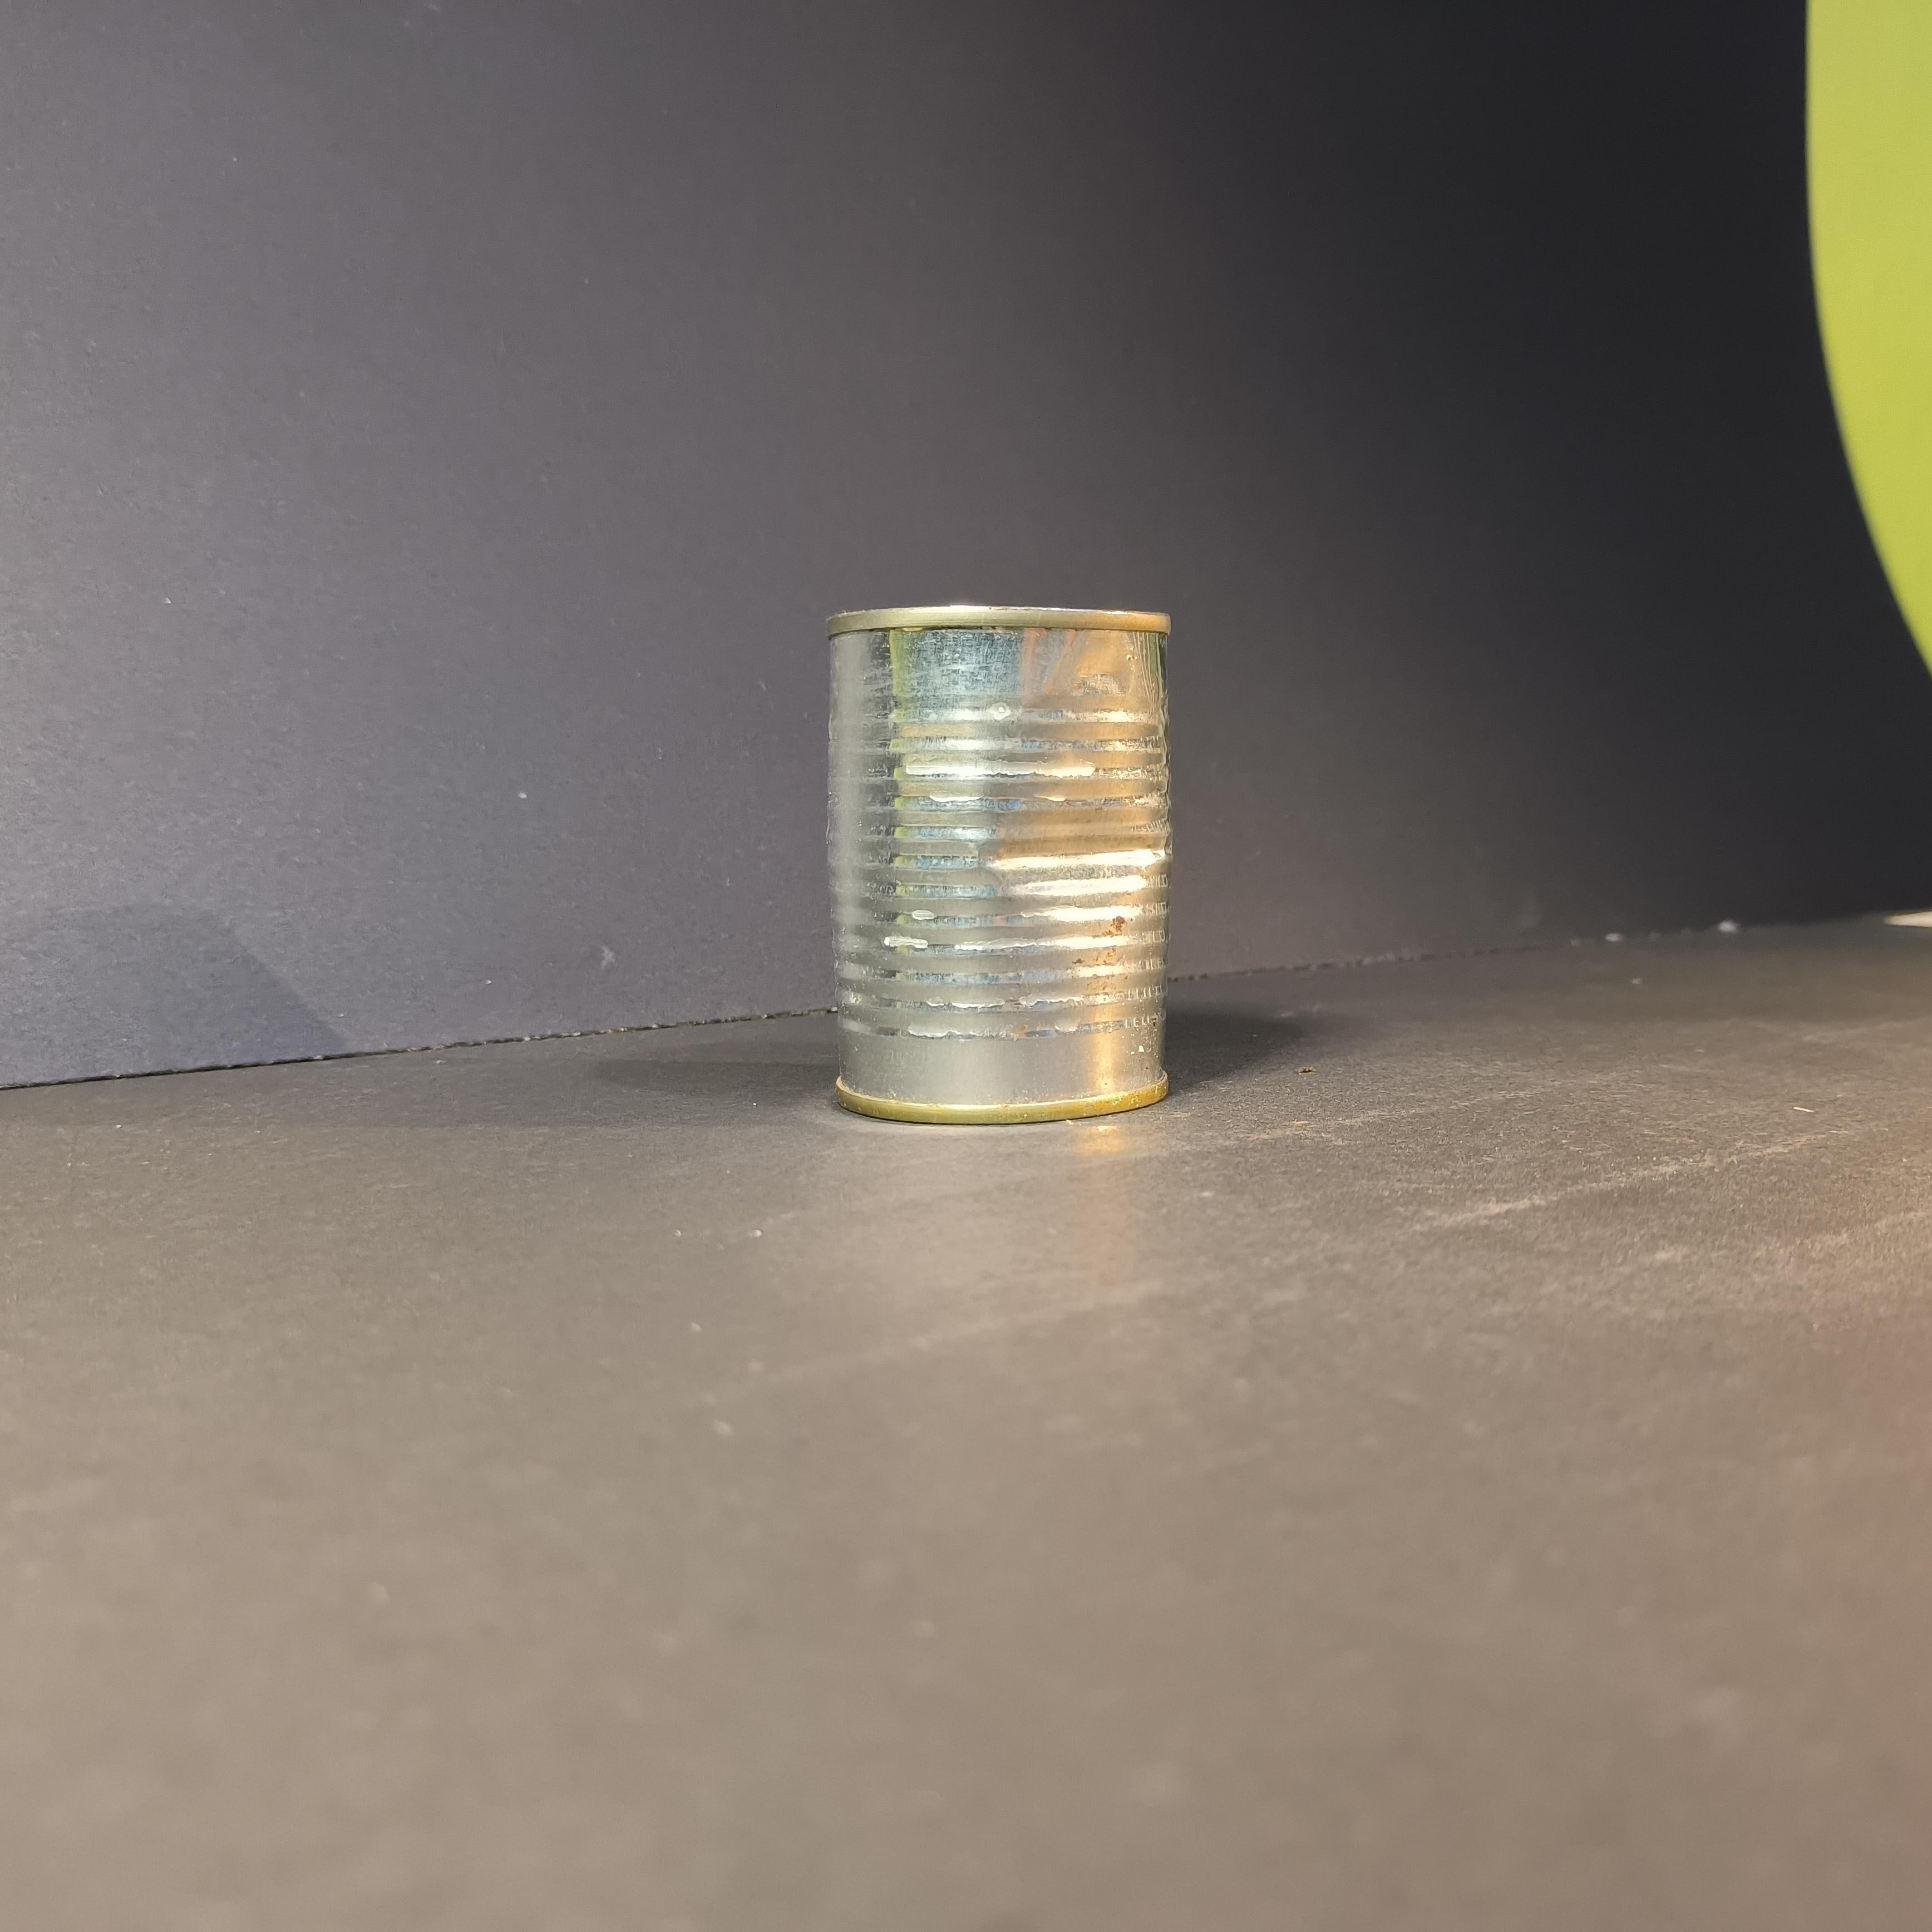Dented: (803, 587, 1187, 1132)
